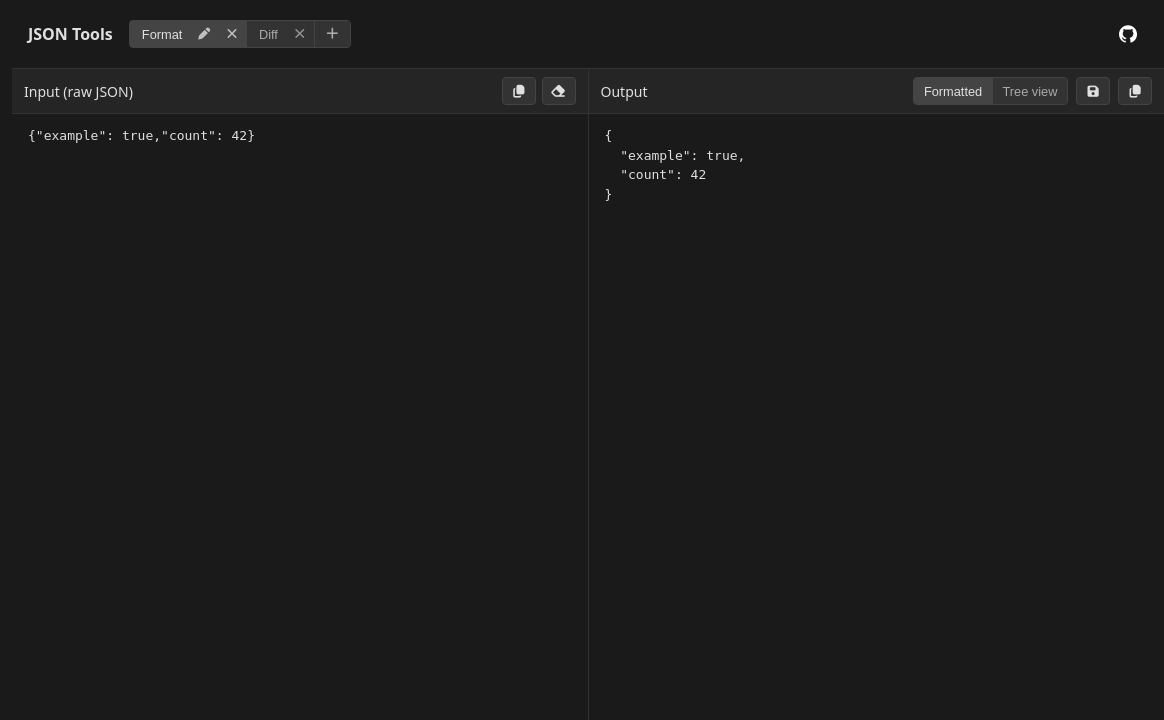
App › can close a tab and another tab is selected
Step 1. Click the tab "Diff" → (266, 34), box [247,21,286,47]
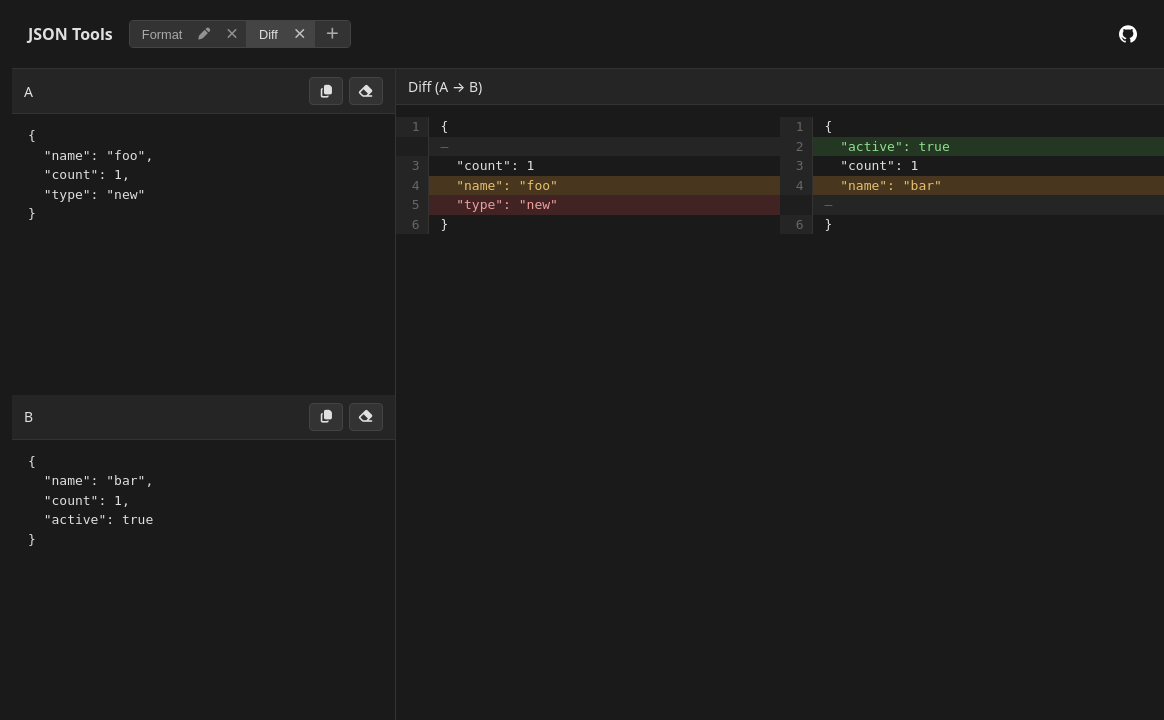
Step 2. Click the button named "close diff" → (300, 34), box [286,24,314,44]
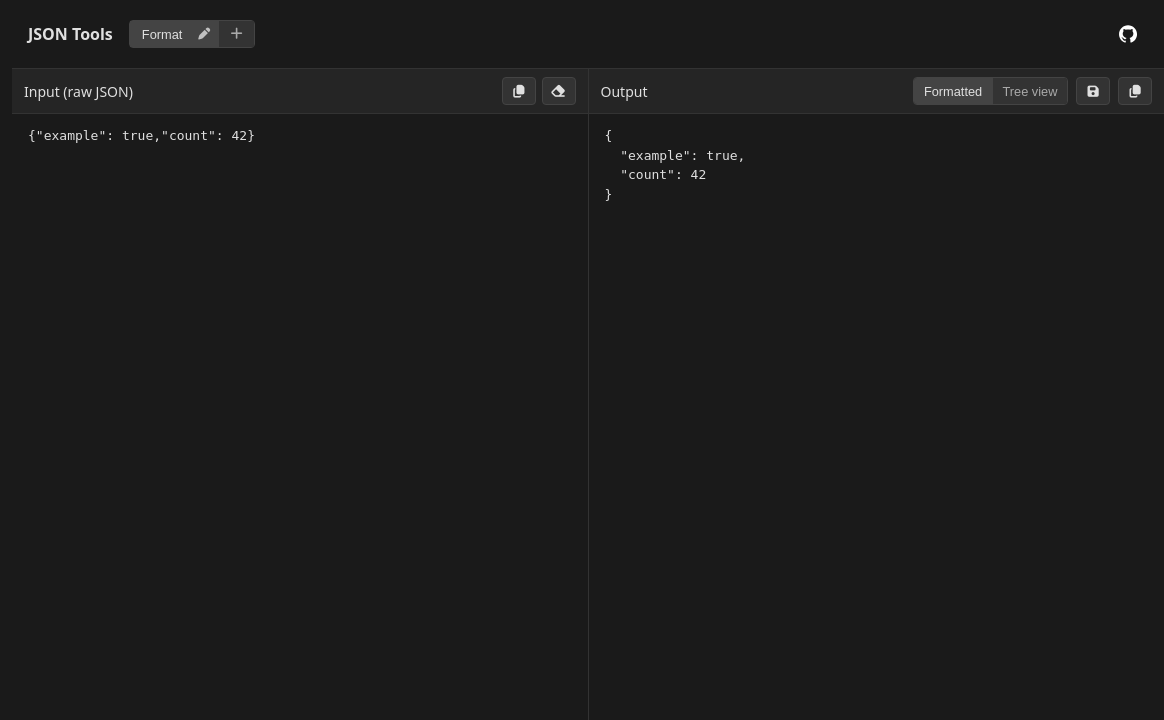
Now the tab "Diff" is gone
